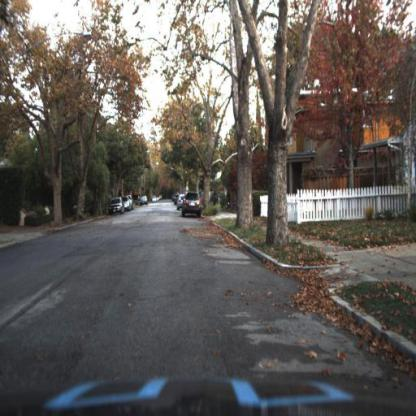car: (180, 188, 206, 221), (107, 196, 125, 218), (175, 191, 189, 212), (138, 191, 152, 209)
